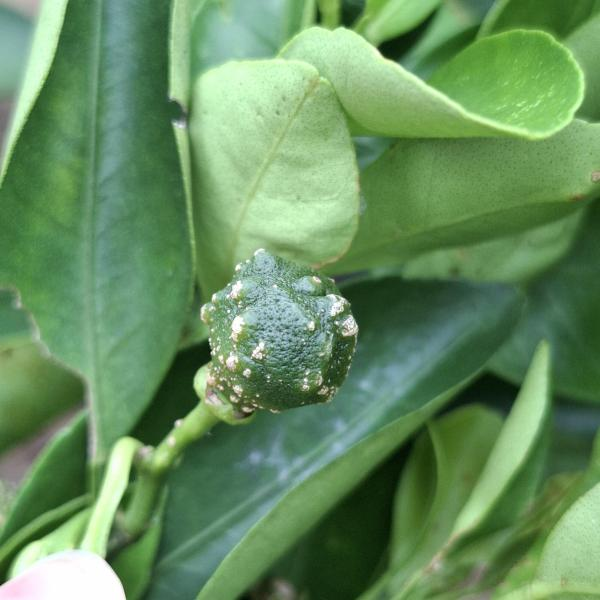Scab: (192, 251, 380, 426)
